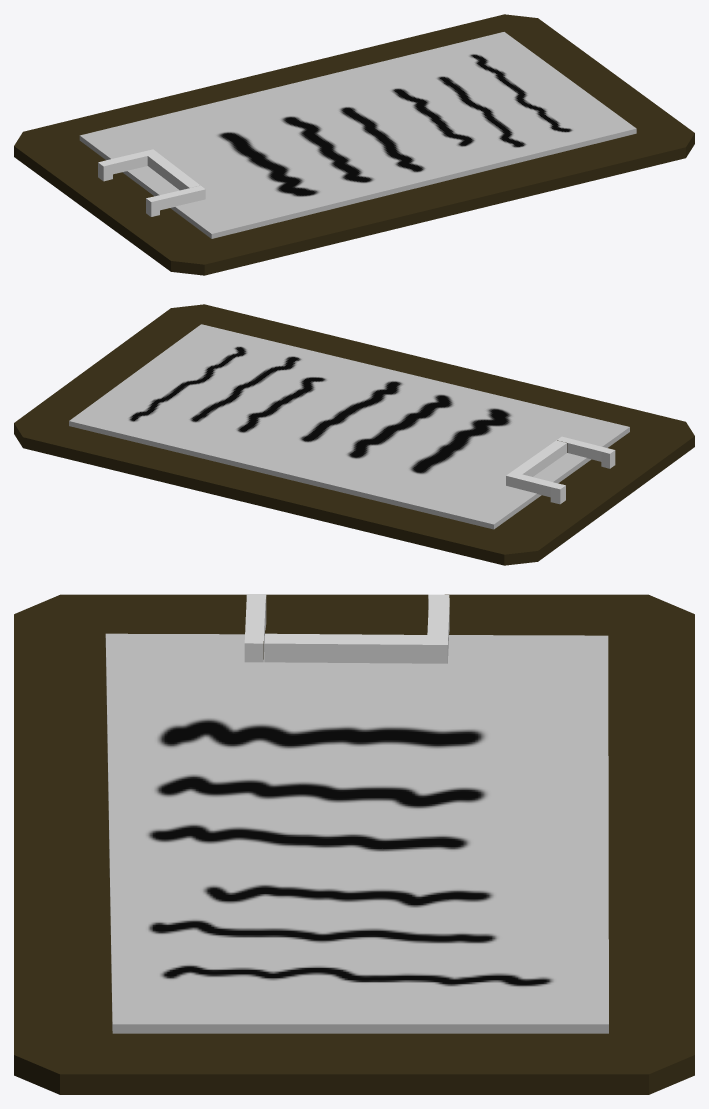
File: clipBoard.glb
3 renders of one model, top to bottom at view 1: azimuth 30°, elevation 25°; view 2: azimuth 150°, elevation 25°; view 3: azimuth 270°, elevation 25°, orthographic. The views are drawn at different scales.
Visible parts, largest first — view 1: Clipboard; view 2: Clipboard; view 3: Clipboard.
Boxes of the visible parts, x1,y1,x2,y2 form: Clipboard: (14,14,694,275); Clipboard: (14,304,694,565); Clipboard: (14,594,694,1094).
Bounding box in the file's own units: 0.5 × 0.0237 × 0.3.
Materials: 3 (1 with a texture image).
